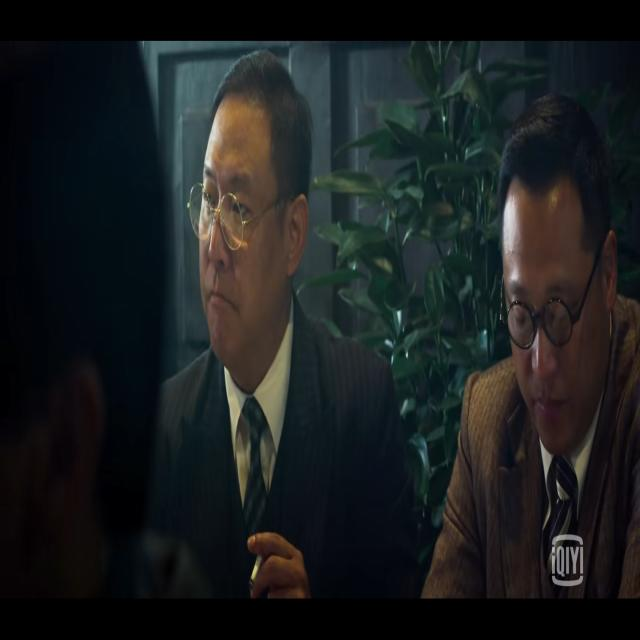cigarette: (244, 559, 264, 596)
